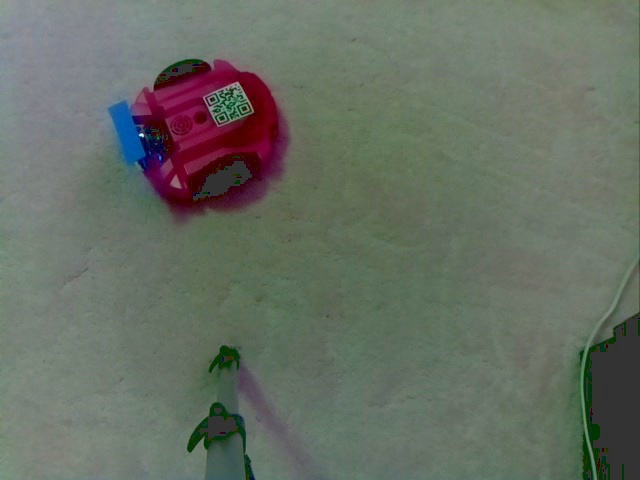board: (107, 108, 172, 174)
chassis: (109, 52, 283, 204)
